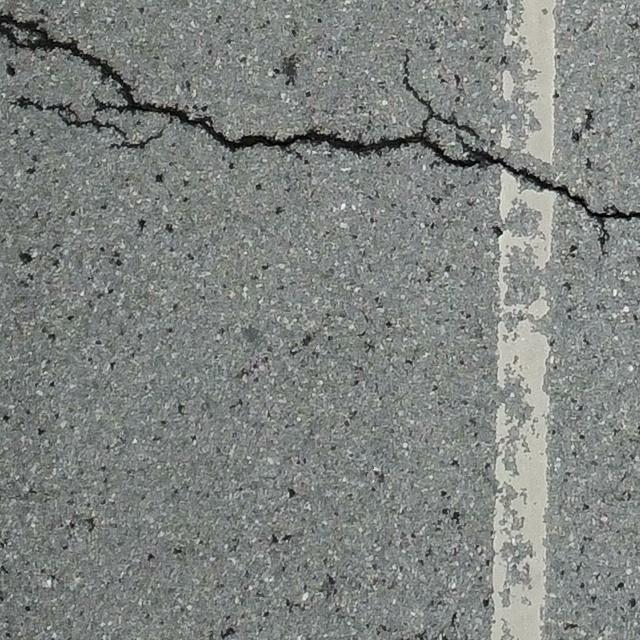TransverseCrack: (1, 11, 640, 248)
